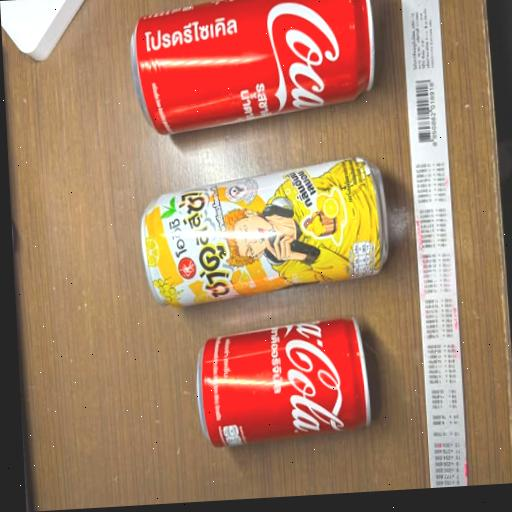bottle: (126, 131, 403, 318), (110, 0, 390, 177), (184, 295, 385, 467)
